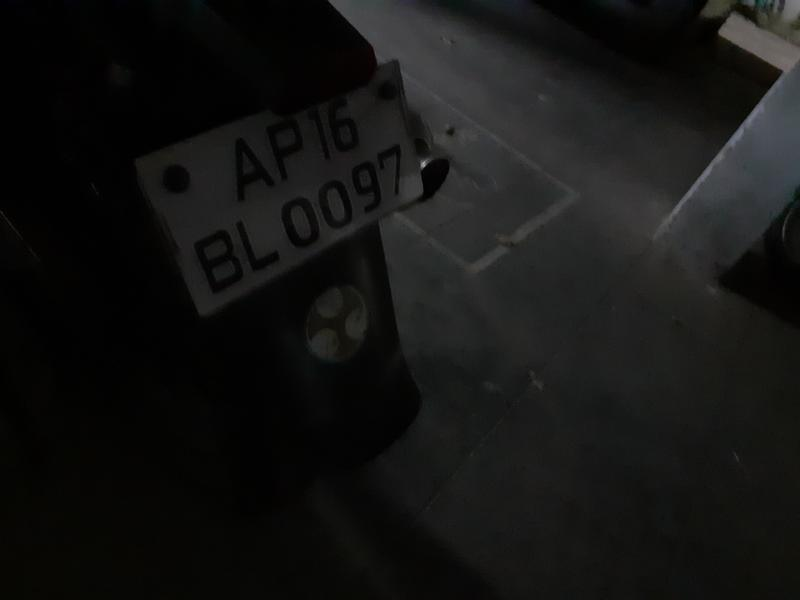numberplate: (147, 67, 426, 303)
